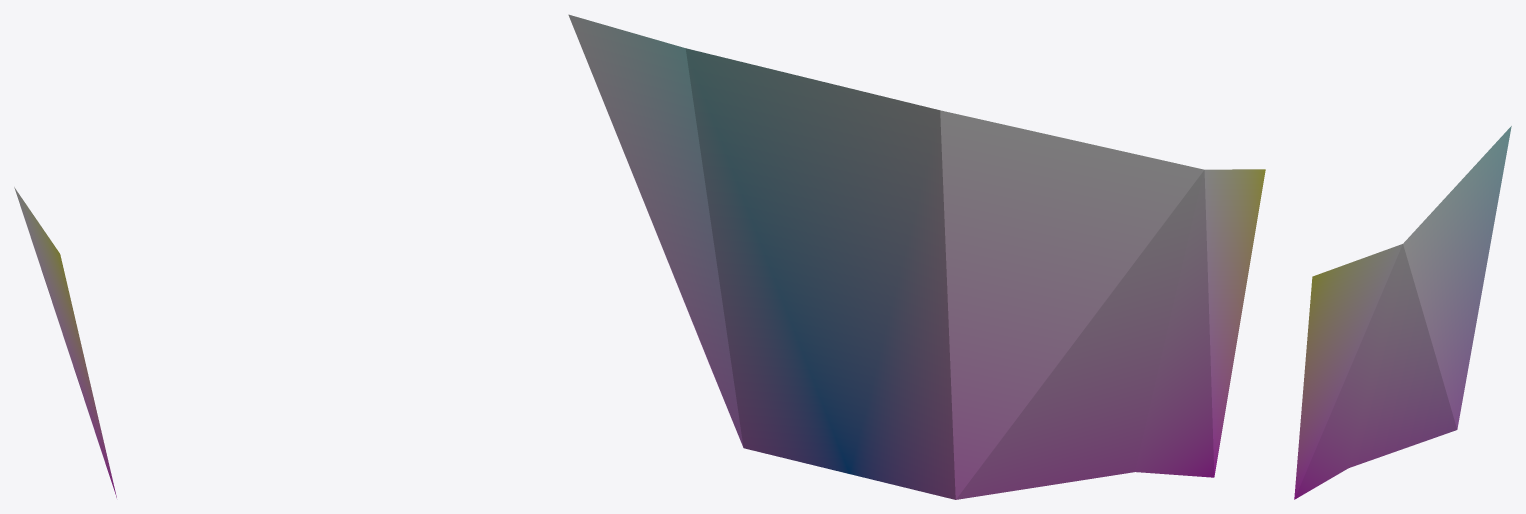
3 renders of one model, left to right at view 1: azimuth 30°, elevation 25°; view 2: azimuth 150°, elevation 25°; view 3: azimuth 270°, elevation 25°, orthographic. The views are drawn at different scales.
Visible parts, largest first — view 1: model_1171; view 2: model_1171; view 3: model_1171.
Part boxes in pixels (x1,y1,x2,y2): model_1171: (14,187,116,497); model_1171: (568,14,1265,499); model_1171: (1294,126,1511,499).
Bounding box in the file's own units: 30 × 20 × 12.
